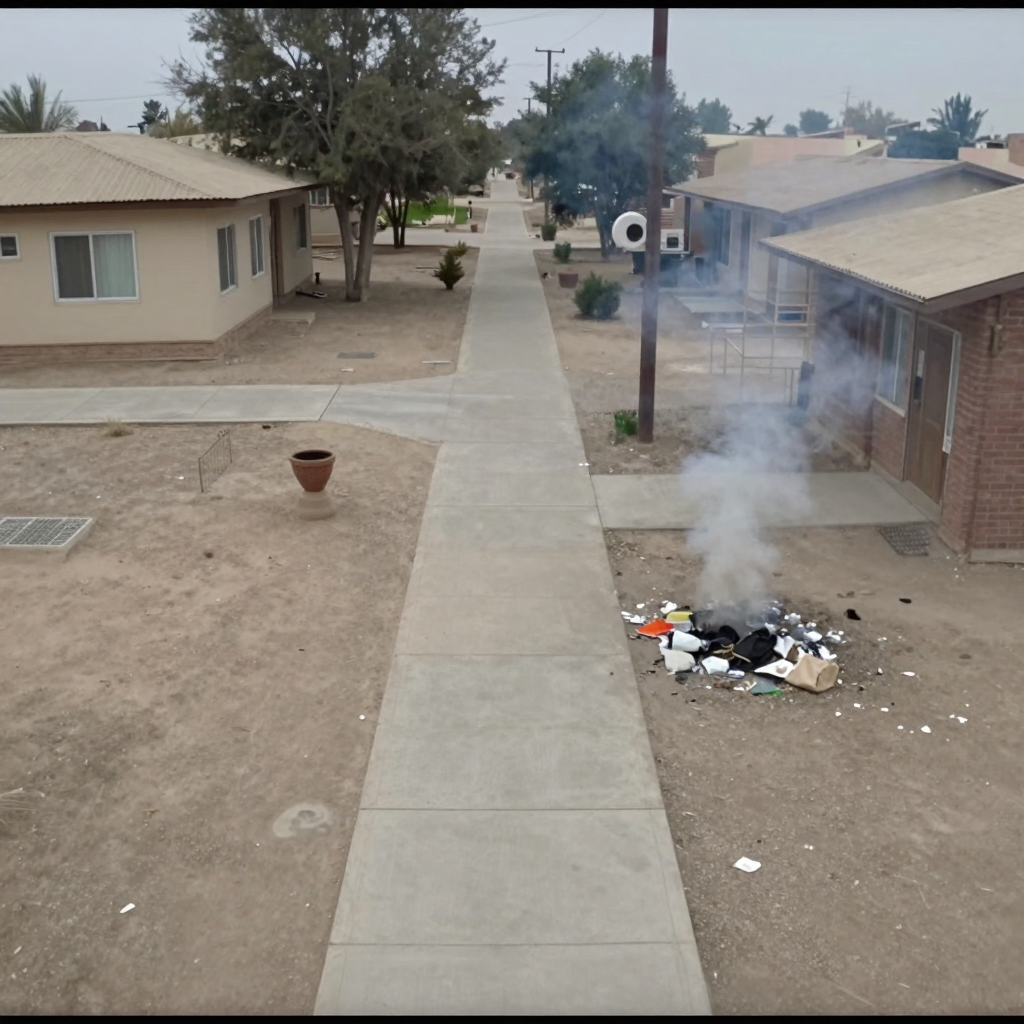Explosion: (656, 205, 901, 632)
